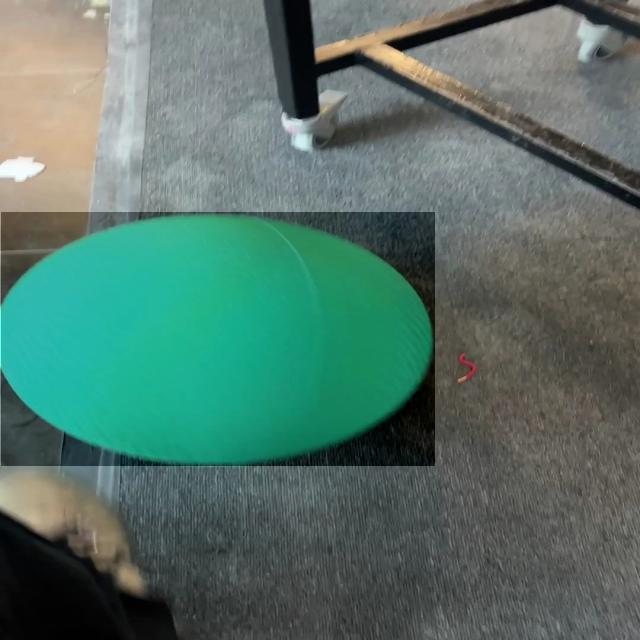Algae: (1, 213, 435, 467)
